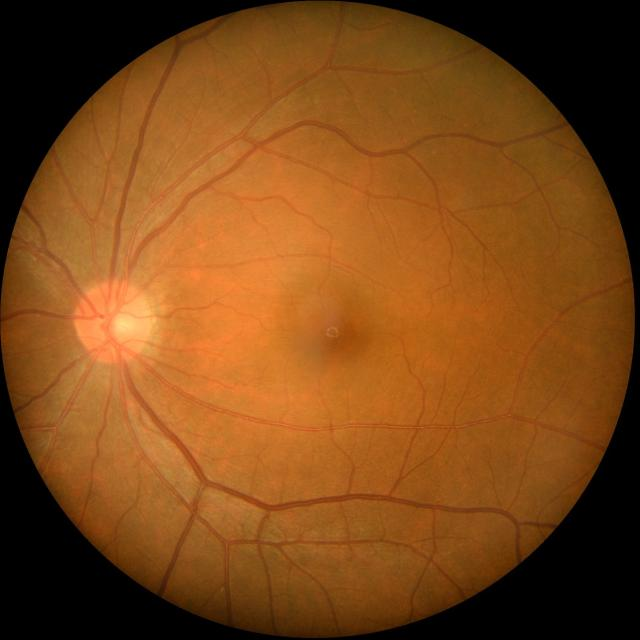OC: (106, 309, 138, 341)
OD: (72, 279, 152, 362)
